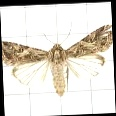Spodoptera litura: (3, 18, 114, 97)
